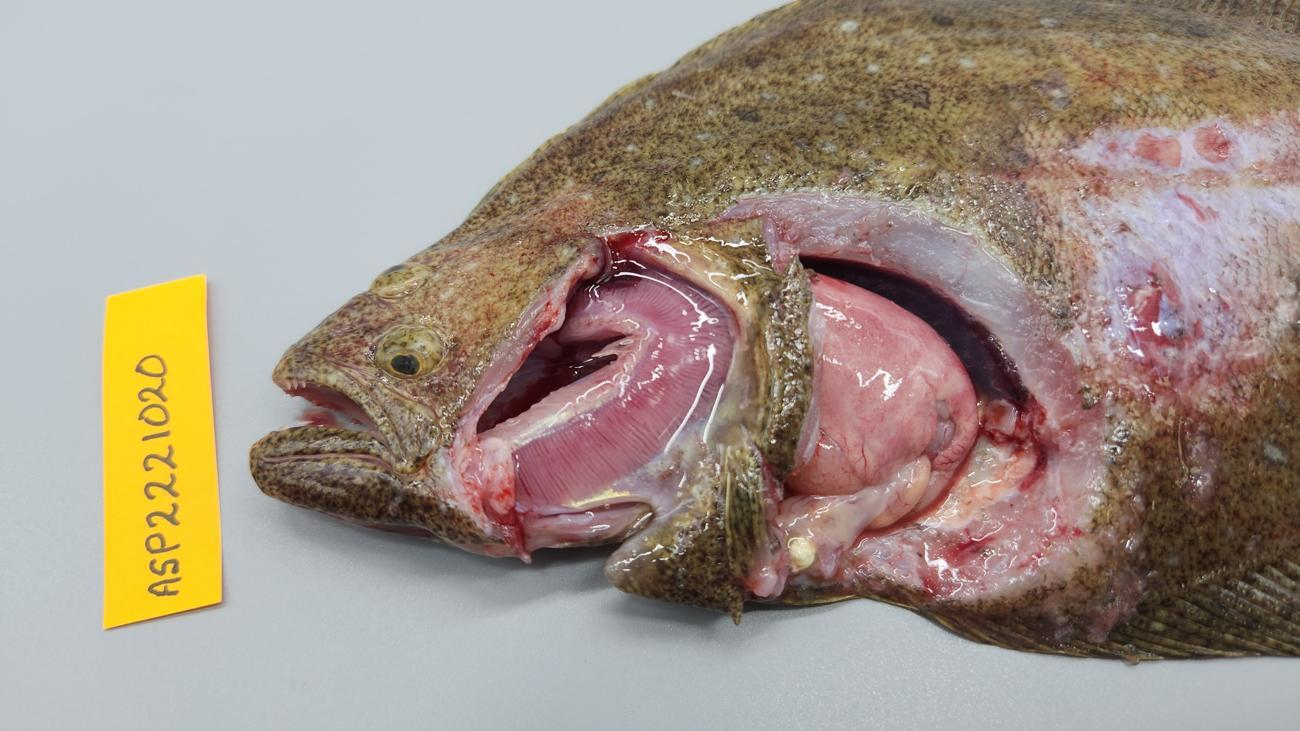SPGIP: (512, 263, 737, 504)
